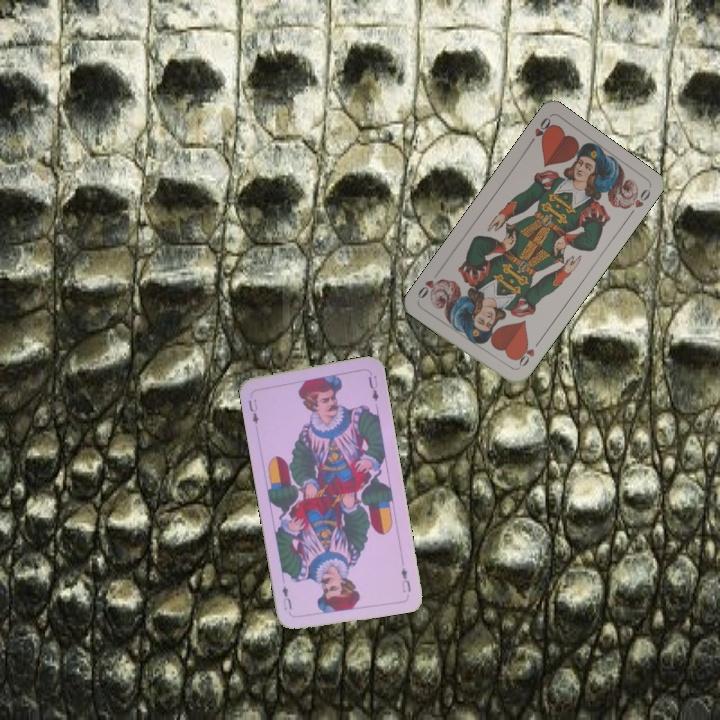EU: (397, 564, 414, 595), (245, 395, 261, 427)
HO: (524, 113, 556, 149), (512, 338, 542, 372)
